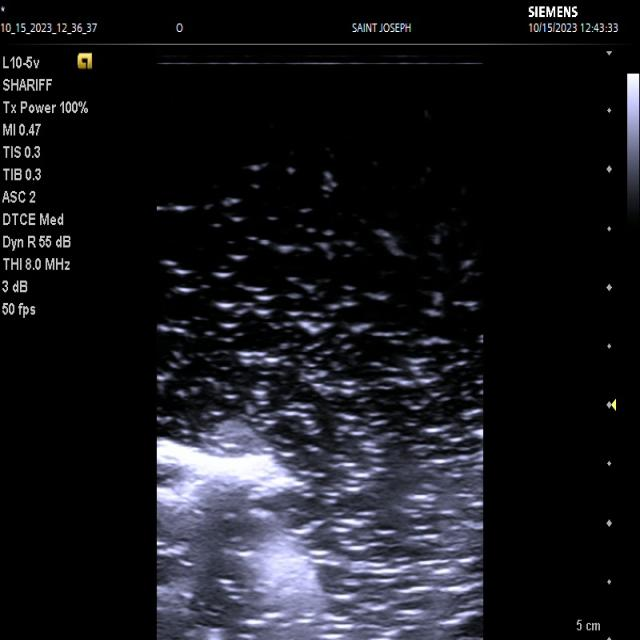tissue: (157, 437, 334, 640)
